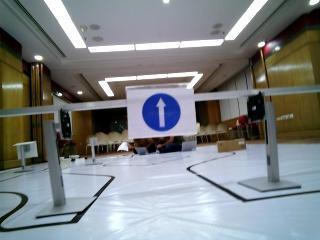straight: (126, 90, 197, 133)
